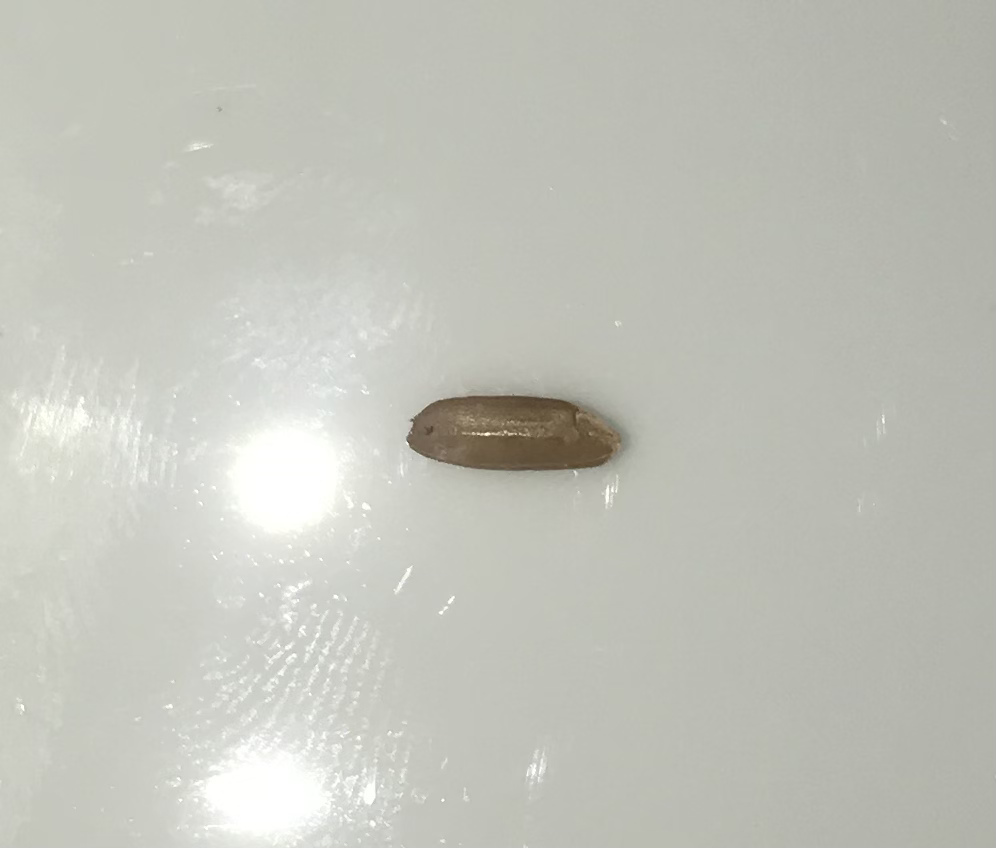Gao Lut Dien Bien: (412, 372, 624, 496)
